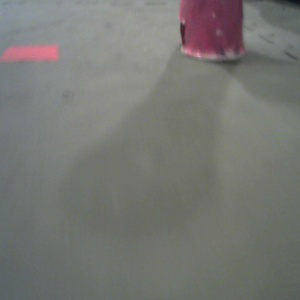right: (178, 1, 249, 63)
